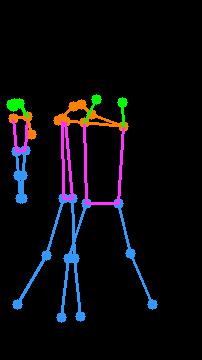normal: (27, 76, 164, 329), (1, 92, 41, 215)
